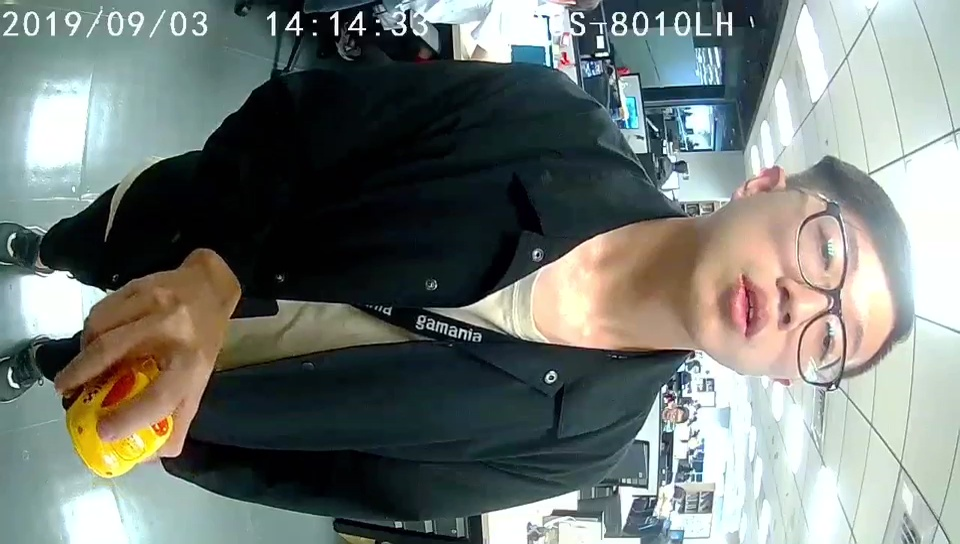car: (68, 357, 171, 480)
